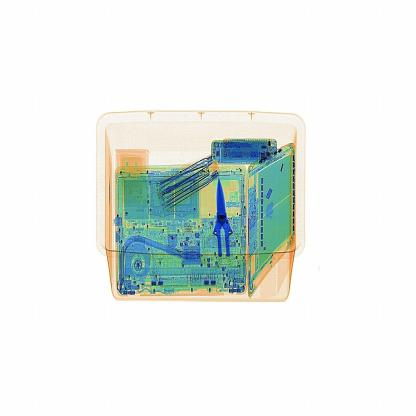gun: (200, 171, 248, 265)
